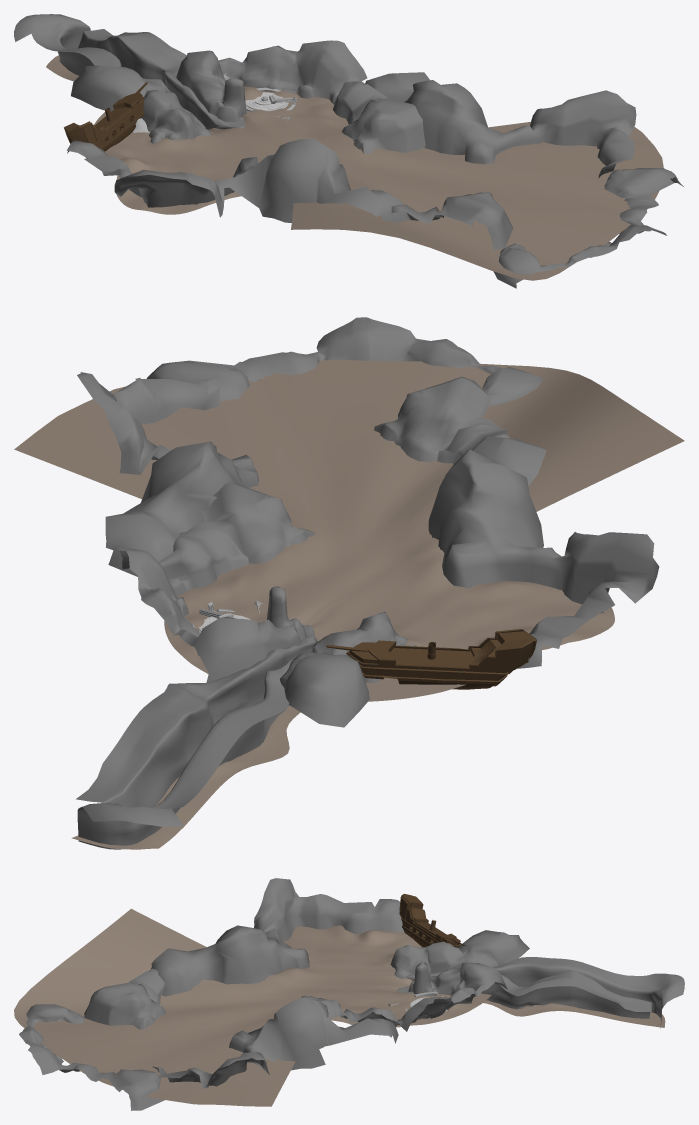
Rendered from SceneTest.fbx.
3 renders of one model, top to bottom at view 1: azimuth 30°, elevation 25°; view 2: azimuth 150°, elevation 25°; view 3: azimuth 270°, elevation 25°, orthographic. The views are drawn at different scales.
Parts seen in each view (by area): view 1: SceneTest; view 2: SceneTest; view 3: SceneTest.
Part boxes in pixels (x1,y1,x2,y2): SceneTest: (14,14,683,288); SceneTest: (14,317,684,849); SceneTest: (14,878,684,1110).
Size of the model in its own units: 162 by 34.49 by 236.
